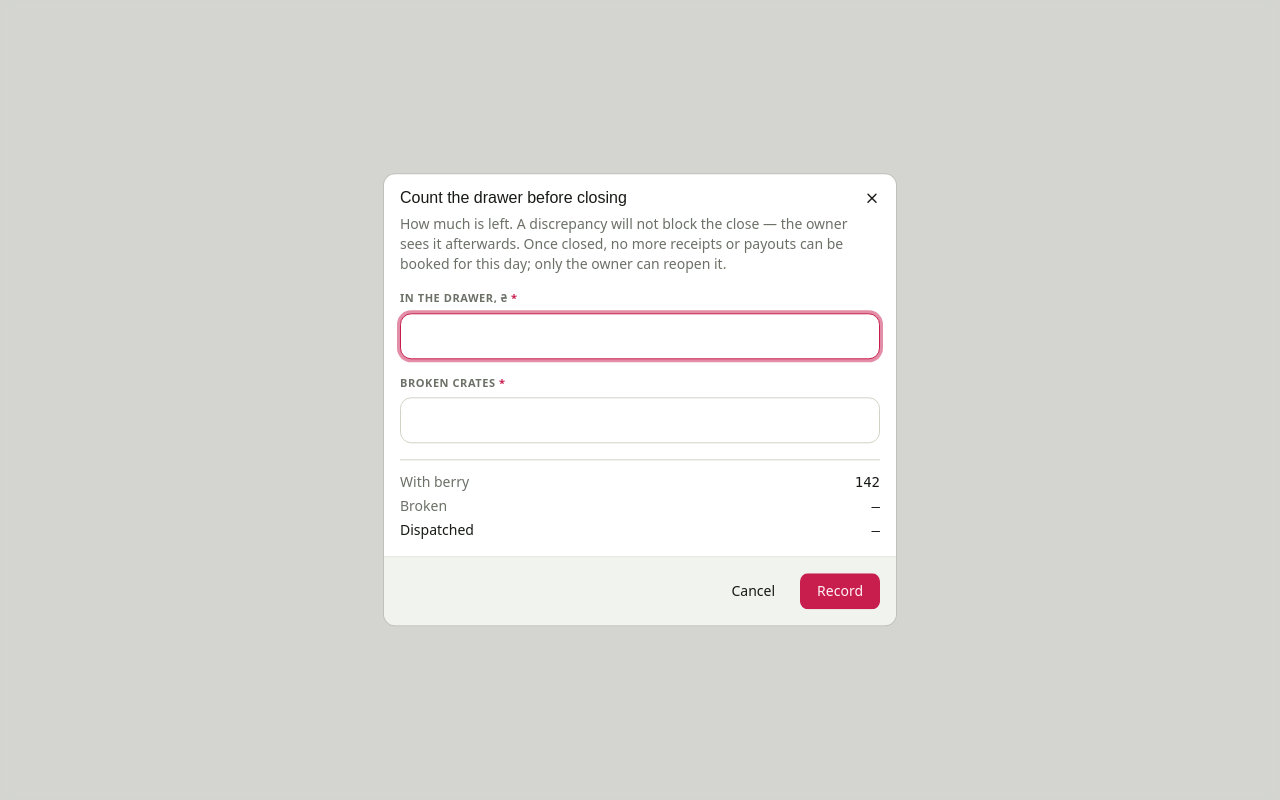
Test case: CountDrawerDialog › refuses to close with the breakage left blank
This screenshot has width=1280, height=800.
Type "980.40" into the field labelled "In the drawer, ₴" at (640,336), box [400,313,880,359]
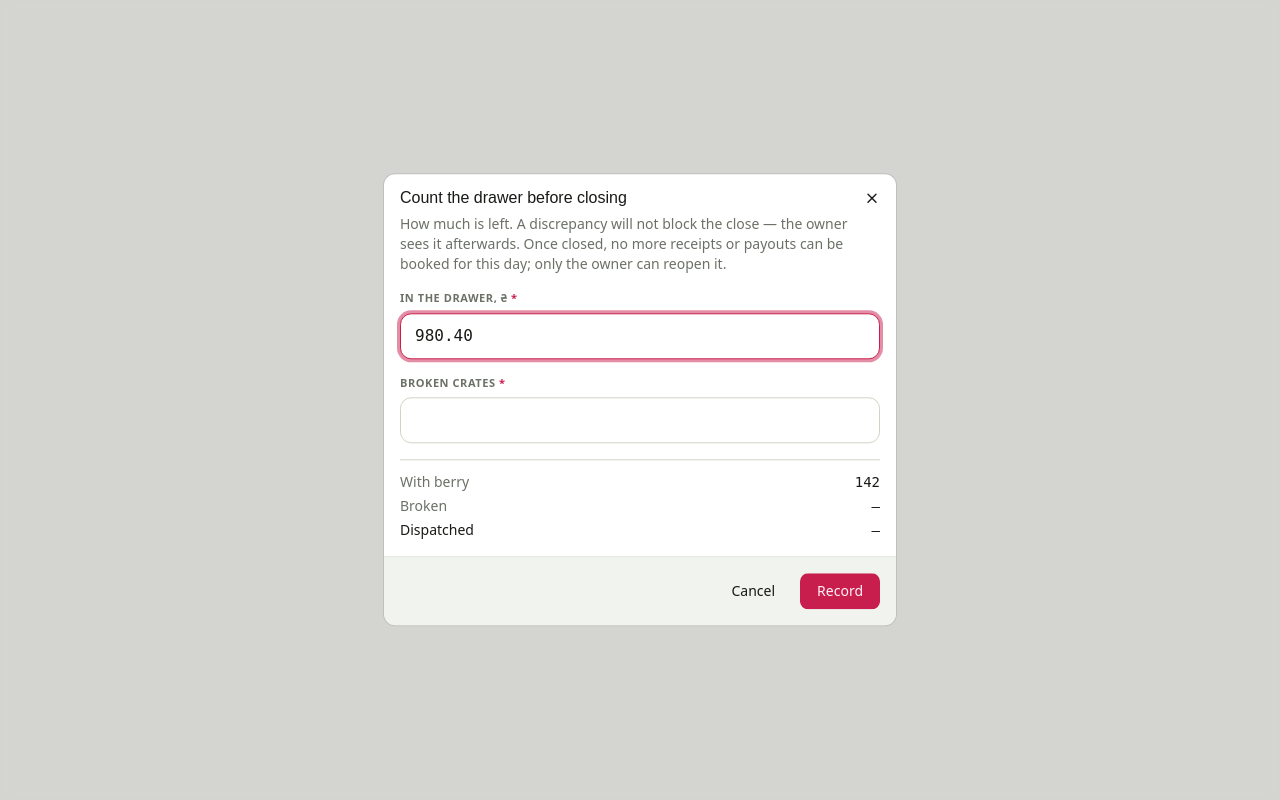
Click the button "Record" at (840,592), box [800,574,880,610]
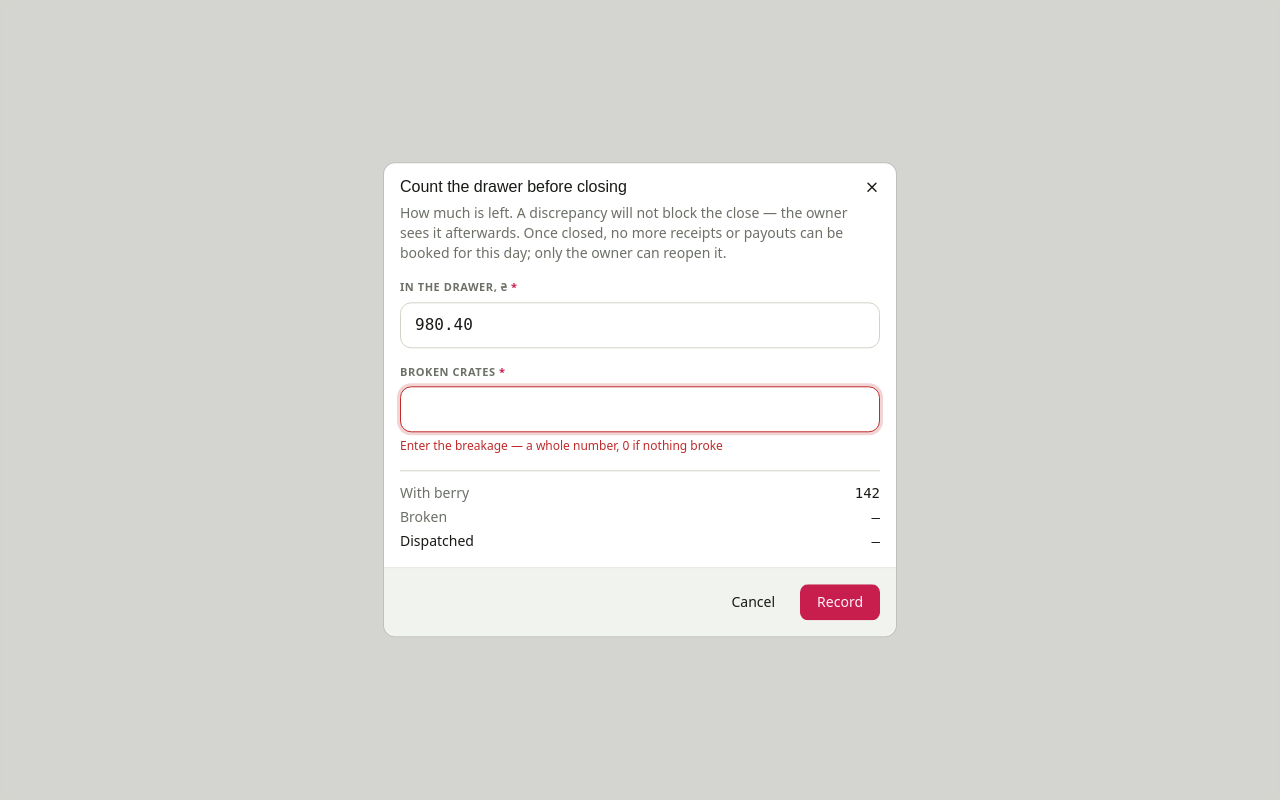
Now the message "Enter the breakage — a whole number, 0 if nothing broke" is shown, box [400,438,723,455]
